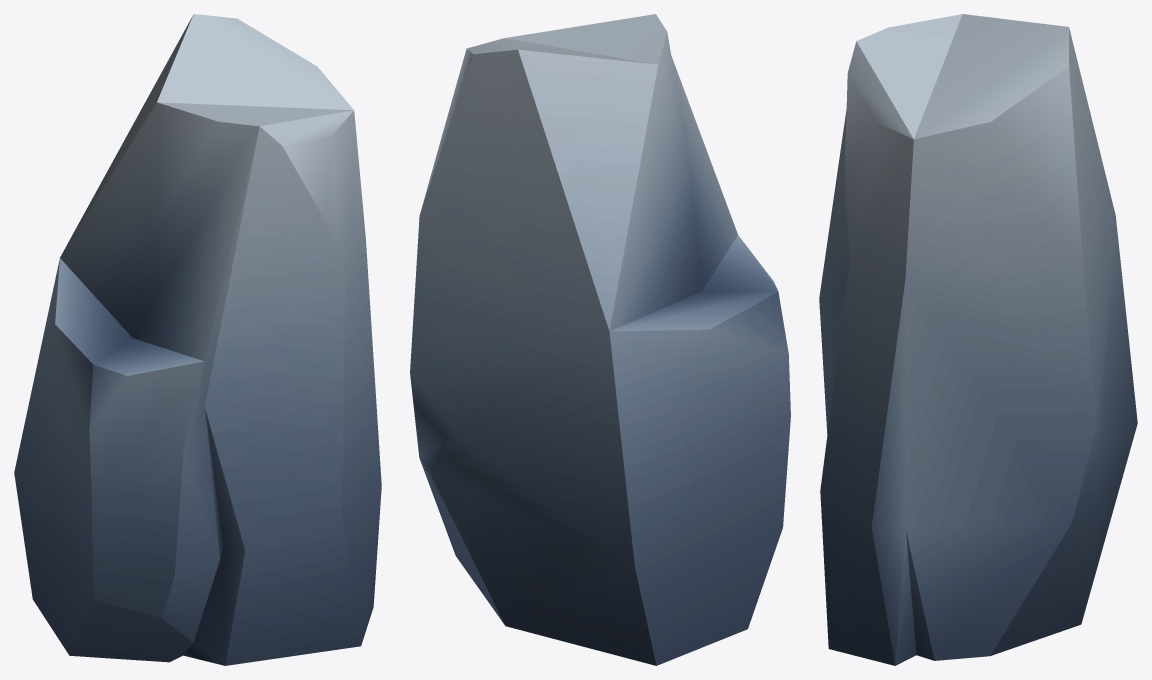
Rendered from Rock.fbx.
The picture shows the model from 3 angles, left to right: view 1: azimuth 30°, elevation 25°; view 2: azimuth 150°, elevation 25°; view 3: azimuth 270°, elevation 25°; orthographic projection. The views are drawn at different scales.
Visible parts, largest first — view 1: pCube1; view 2: pCube1; view 3: pCube1.
Part boxes in pixels (x1,y1,x2,y2): pCube1: [14, 14, 381, 665]; pCube1: [410, 14, 790, 665]; pCube1: [819, 14, 1137, 665].
Bounding box in the file's own units: 4.52 × 8.46 × 4.11.
